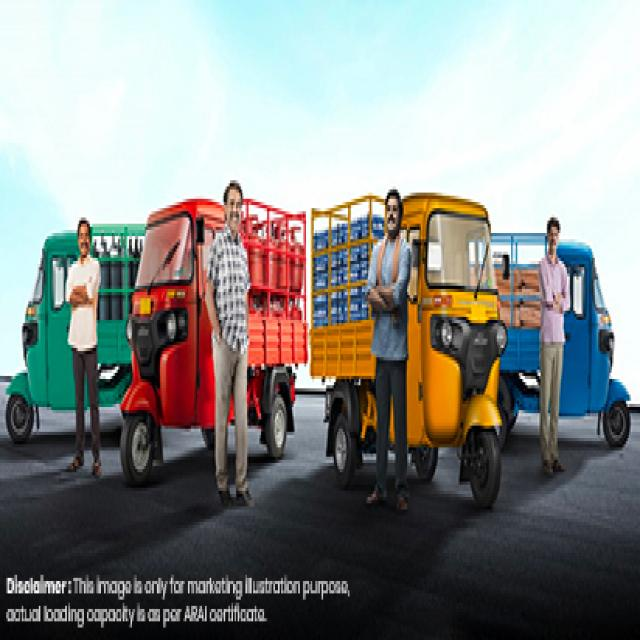autorickshaw: (311, 190, 508, 511), (121, 183, 308, 506), (491, 217, 630, 447), (8, 217, 145, 441)
